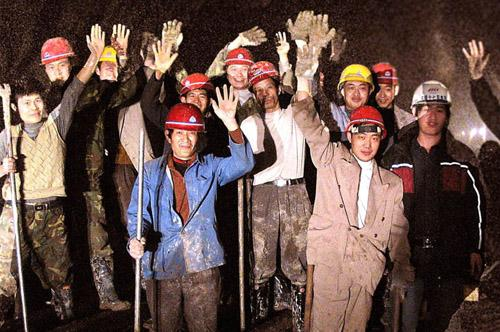helmet: (343, 106, 395, 136), (167, 101, 207, 134), (246, 57, 286, 89), (333, 64, 378, 90), (415, 81, 455, 107), (41, 36, 76, 63), (369, 63, 403, 87), (182, 74, 217, 95), (225, 46, 255, 68), (100, 47, 121, 65)
